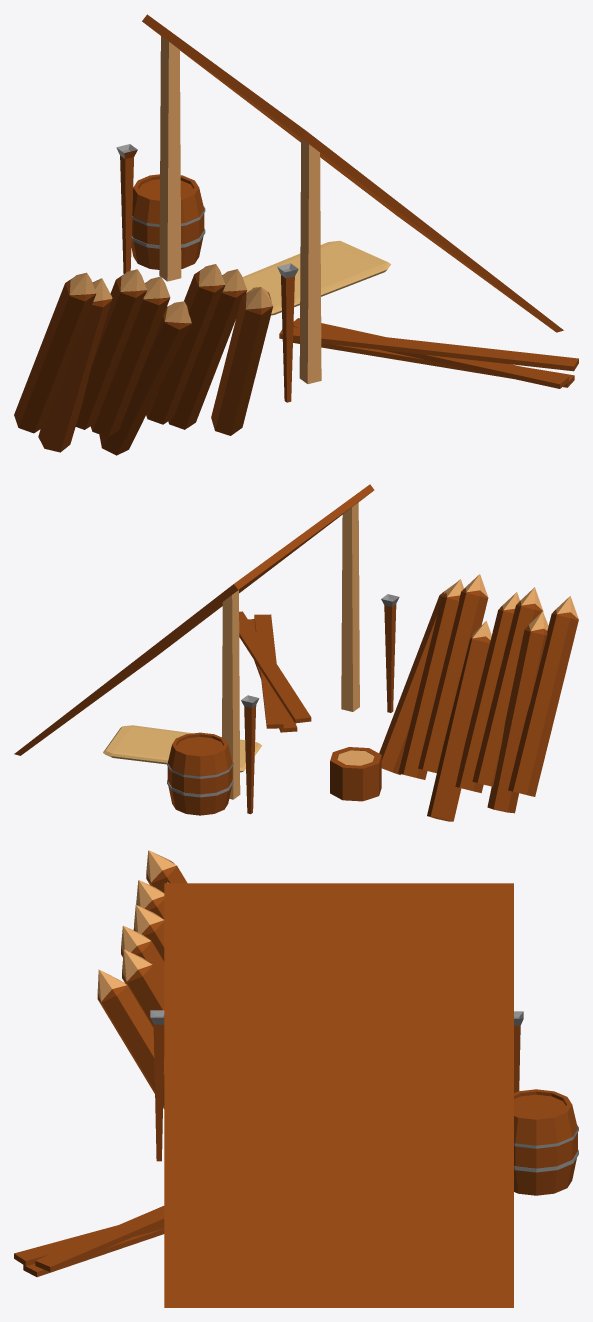
The model's file is enemyCamp.dae.
3 renders of one model, top to bottom at view 1: azimuth 30°, elevation 25°; view 2: azimuth 150°, elevation 25°; view 3: azimuth 270°, elevation 25°, orthographic. The views are drawn at different scales.
Parts seen in each view (by area): view 1: wall, shed, wood, barrel, bed, torch.001, torch; view 2: wall, shed, barrel, wood, chair, bed, torch.001, torch; view 3: shed, wall, barrel, wood, torch.001.
Part boxes in pixels (x1=…): wall: x1=14, y1=264, x2=273, y2=455; shed: x1=142, y1=14, x2=563, y2=383; wood: x1=279, y1=318, x2=578, y2=388; barrel: x1=131, y1=174, x2=205, y2=269; bed: x1=242, y1=240, x2=390, y2=315; torch.001: x1=277, y1=263, x2=298, y2=402; torch: x1=116, y1=144, x2=137, y2=273; wall: x1=379, y1=574, x2=578, y2=821; shed: x1=14, y1=484, x2=374, y2=799; barrel: x1=167, y1=732, x2=233, y2=815; wood: x1=239, y1=611, x2=311, y2=732; chair: x1=330, y1=747, x2=381, y2=801; bed: x1=103, y1=725, x2=262, y2=772; torch.001: x1=381, y1=594, x2=399, y2=712; torch: x1=241, y1=695, x2=259, y2=814; shed: x1=164, y1=883, x2=513, y2=1307; wall: x1=97, y1=850, x2=187, y2=1108; barrel: x1=514, y1=1089, x2=578, y2=1195; wood: x1=14, y1=1206, x2=164, y2=1277; torch.001: x1=150, y1=1010, x2=164, y2=1161.
Bounding box in the file's own units: 8.29 × 7.43 × 5.17.
